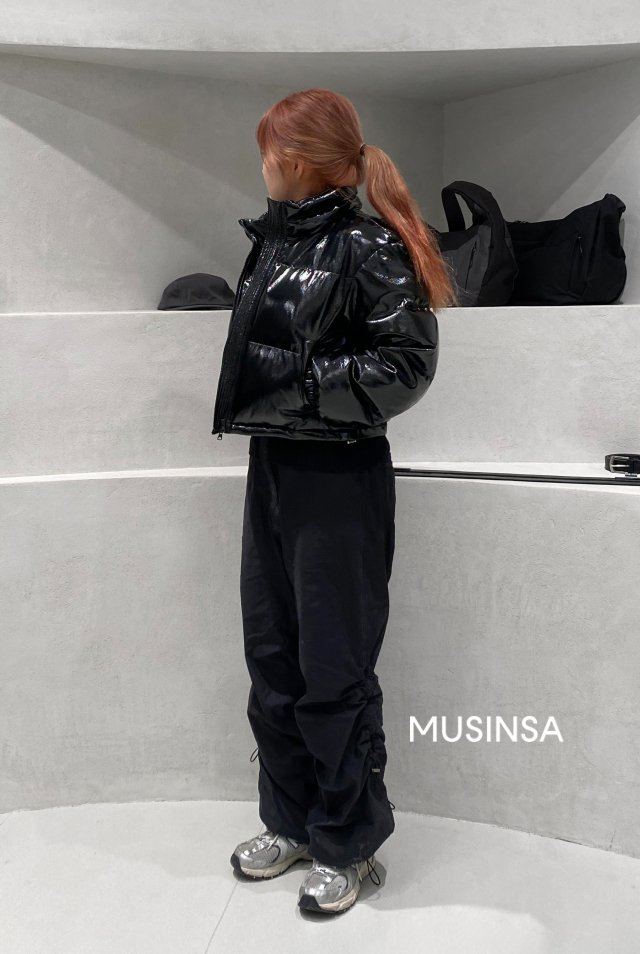Bubble jacket: (210, 190, 442, 449)
Pants: (224, 429, 405, 866)
Shoes: (223, 822, 386, 916)
